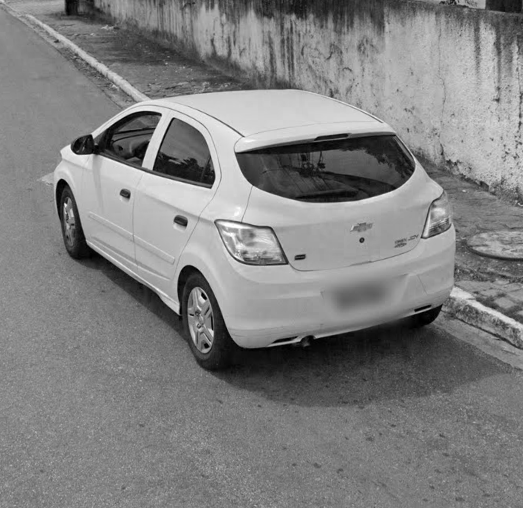car: (49, 87, 458, 376)
